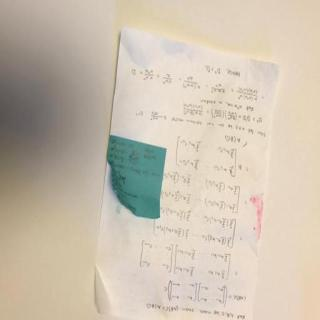Anorganik: (91, 24, 284, 316)
